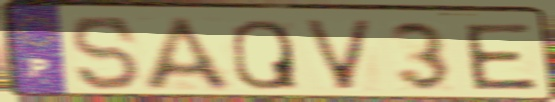3: (387, 20, 455, 92)
A: (140, 15, 239, 93)
E: (460, 21, 542, 92)
Q: (228, 17, 302, 92)
S: (69, 13, 145, 93)
V: (298, 18, 379, 93)
